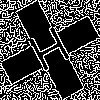H: (25, 25, 78, 82)
